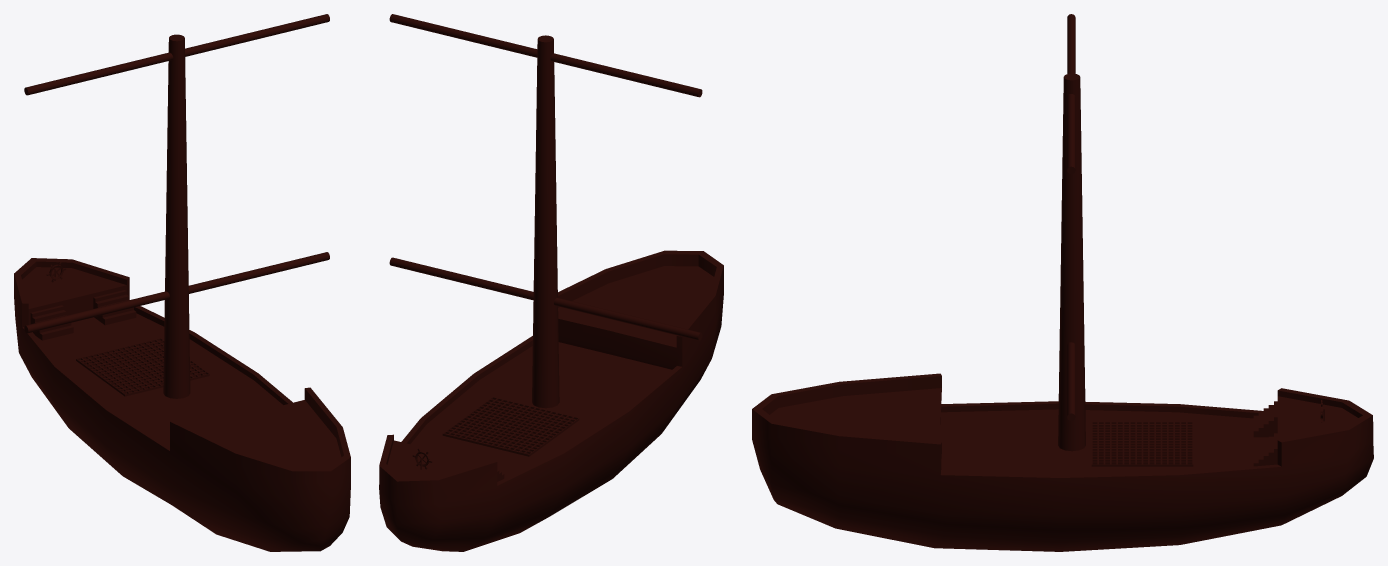
The model's file is garbageship.FBX.
3 views of the same model, side by side, from view 1: azimuth 30°, elevation 25°; view 2: azimuth 150°, elevation 25°; view 3: azimuth 270°, elevation 25° (orthographic). The views are drawn at different scales.
Parts seen in each view (by area): view 1: Sphere001, Object, Cylinder001, Box003, Cylinder002, Box001; view 2: Sphere001, Object, Cylinder001, Box003, Cylinder002; view 3: Sphere001, Box003, Cylinder001, Object, Box001.
Boxes of the visible parts, left/top/right/bottom form: Sphere001: left=14, top=258, right=350, bottom=551; Object: left=24, top=14, right=329, bottom=211; Cylinder001: left=163, top=207, right=190, bottom=398; Box003: left=76, top=338, right=209, bottom=396; Cylinder002: left=24, top=252, right=329, bottom=333; Box001: left=30, top=290, right=136, bottom=340; Sphere001: left=379, top=250, right=723, bottom=551; Object: left=389, top=14, right=702, bottom=216; Cylinder001: left=532, top=212, right=559, bottom=408; Box003: left=442, top=397, right=579, bottom=456; Cylinder002: left=389, top=257, right=702, bottom=340; Sphere001: left=752, top=373, right=1373, bottom=551; Box003: left=1091, top=422, right=1193, bottom=466; Cylinder001: left=1058, top=253, right=1085, bottom=451; Object: left=1061, top=14, right=1082, bottom=256; Box001: left=1253, top=401, right=1277, bottom=466.
Bounding box in the file's own units: 313 × 446 × 539.
